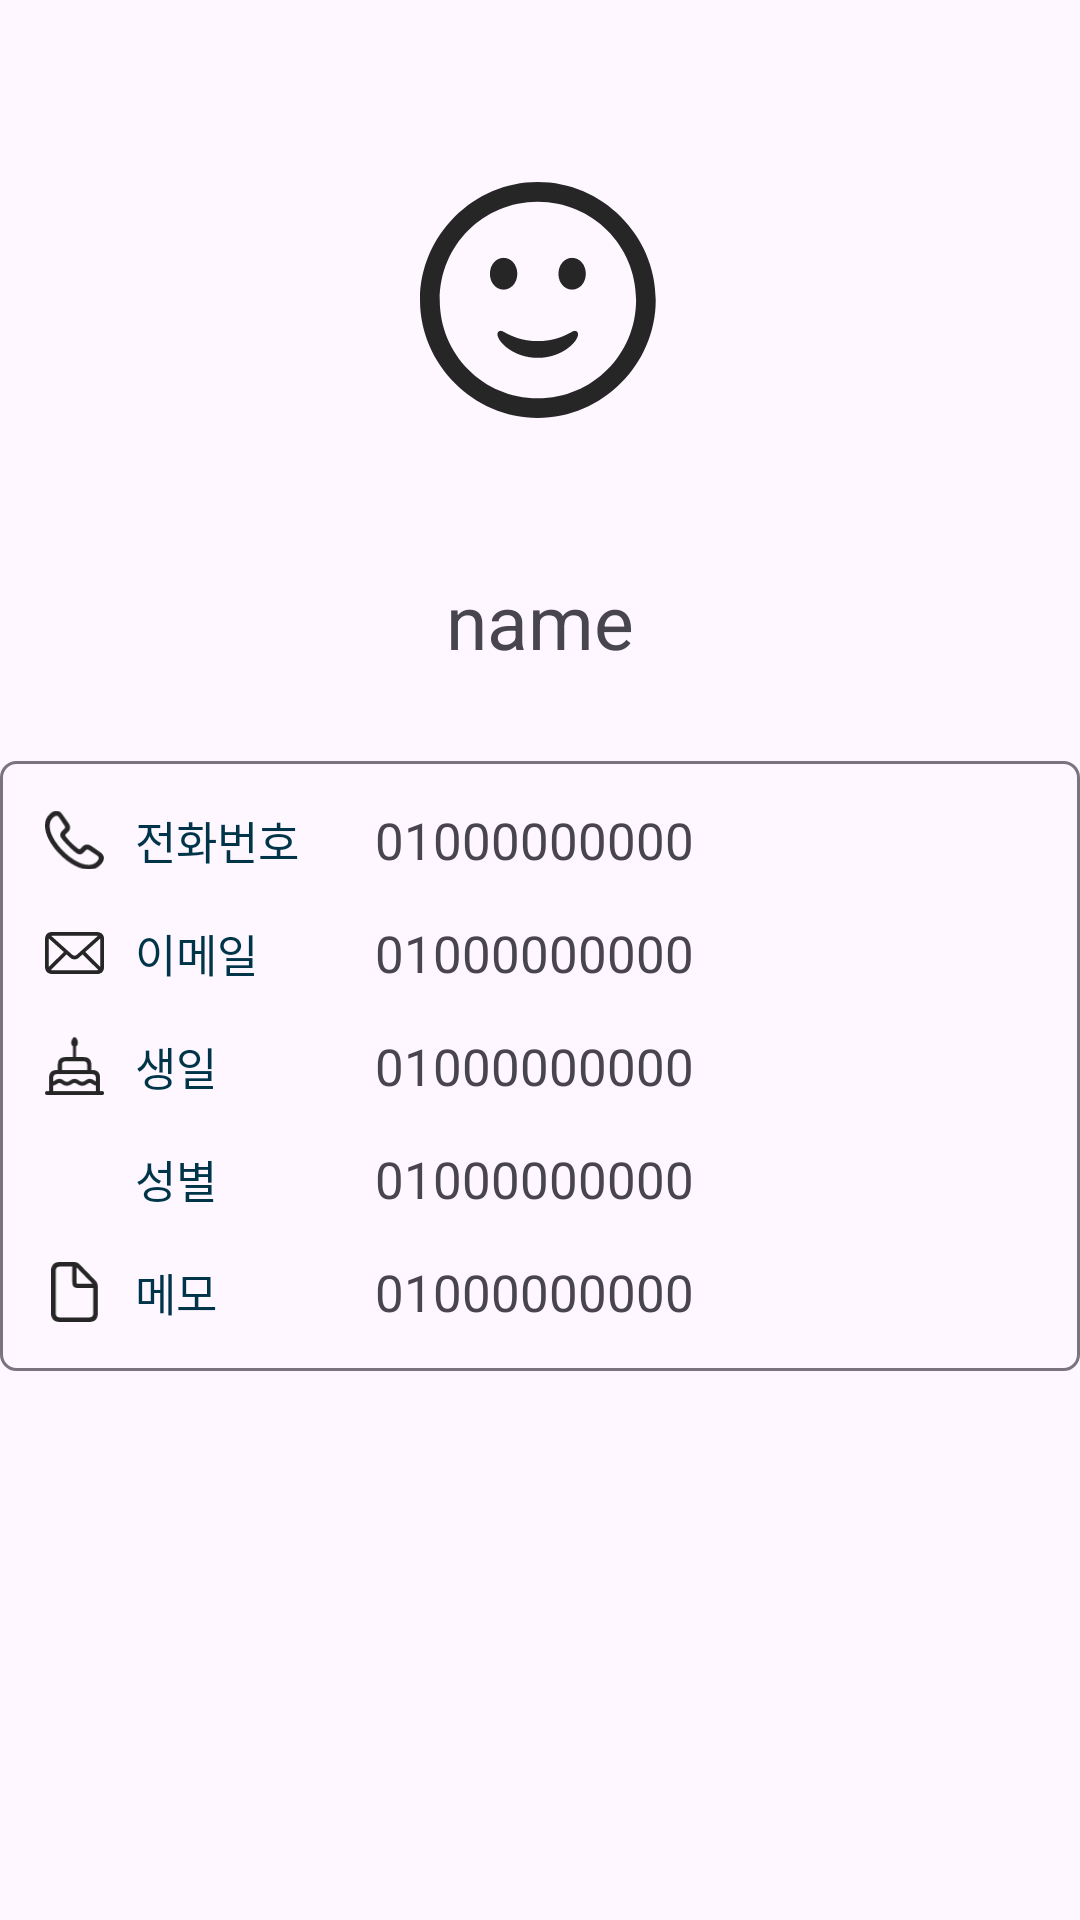

Locate icon controls on the screen. Image size 1080w x 1920h, boxes as bbox=(x1, y1, x2, y2).
birthday cake: bbox=(45, 1037, 104, 1095)
doc: bbox=(51, 1262, 98, 1322)
envelope: bbox=(45, 932, 104, 974)
face smiling: bbox=(420, 182, 656, 418)
phone: bbox=(45, 811, 104, 869)
